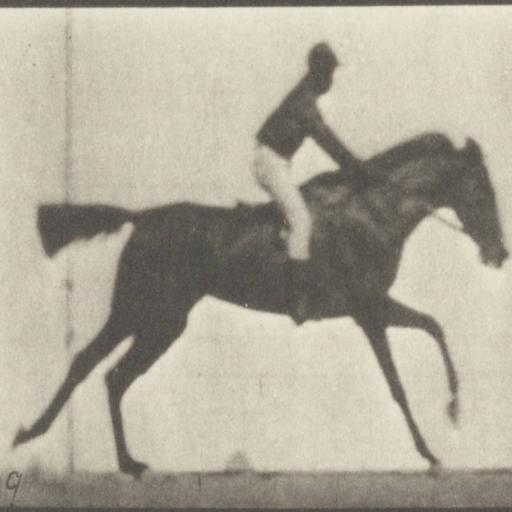horse: (7, 126, 510, 484)
